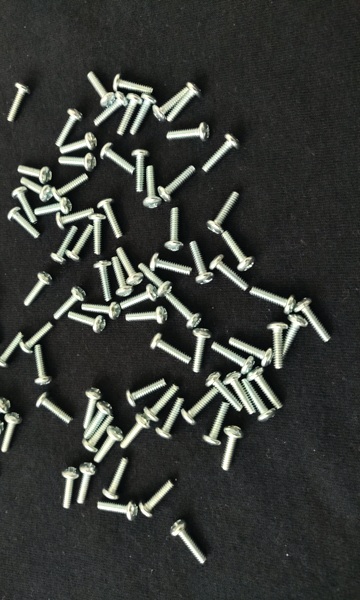shortscrew: (294, 298, 333, 343), (202, 133, 242, 173), (206, 372, 244, 414), (171, 520, 206, 565), (247, 368, 284, 410), (243, 378, 277, 423), (166, 83, 203, 124), (207, 192, 242, 235), (181, 387, 219, 426), (210, 254, 249, 292), (158, 165, 197, 203), (212, 341, 255, 375), (165, 292, 203, 330), (152, 86, 191, 123), (140, 480, 177, 518), (144, 384, 180, 423), (225, 373, 257, 416), (221, 232, 255, 272), (150, 333, 192, 365), (251, 287, 297, 316), (36, 392, 75, 426), (155, 397, 185, 441), (229, 338, 274, 367), (281, 315, 308, 363), (103, 457, 132, 501), (116, 93, 144, 138), (93, 91, 129, 126), (127, 378, 168, 408), (138, 263, 173, 298), (82, 414, 113, 453), (55, 108, 85, 148), (203, 402, 230, 446), (54, 286, 87, 322), (7, 207, 43, 240), (23, 271, 55, 308), (84, 401, 113, 441), (121, 413, 152, 450), (131, 92, 157, 136), (94, 426, 124, 464), (50, 225, 78, 265), (100, 143, 136, 174), (221, 426, 245, 472), (97, 198, 123, 240), (116, 247, 144, 286), (20, 323, 55, 354), (190, 241, 215, 284), (87, 71, 116, 108), (267, 322, 289, 370), (66, 224, 93, 263), (150, 253, 193, 277), (11, 187, 38, 225), (120, 284, 161, 309), (0, 412, 23, 454), (68, 310, 108, 334), (7, 83, 31, 123), (98, 499, 138, 522), (112, 257, 135, 297), (0, 331, 24, 369), (56, 207, 95, 230), (20, 177, 54, 203), (77, 462, 97, 506), (165, 207, 184, 253), (94, 260, 114, 303), (60, 132, 99, 154), (193, 328, 212, 373), (113, 74, 153, 95), (62, 467, 81, 510), (83, 387, 102, 430), (143, 165, 162, 208), (132, 149, 151, 192), (33, 345, 53, 385), (126, 306, 168, 325), (81, 302, 121, 321), (89, 212, 106, 255), (34, 197, 74, 215), (18, 165, 54, 185), (59, 155, 98, 173), (0, 398, 13, 427), (0, 418, 5, 439)
